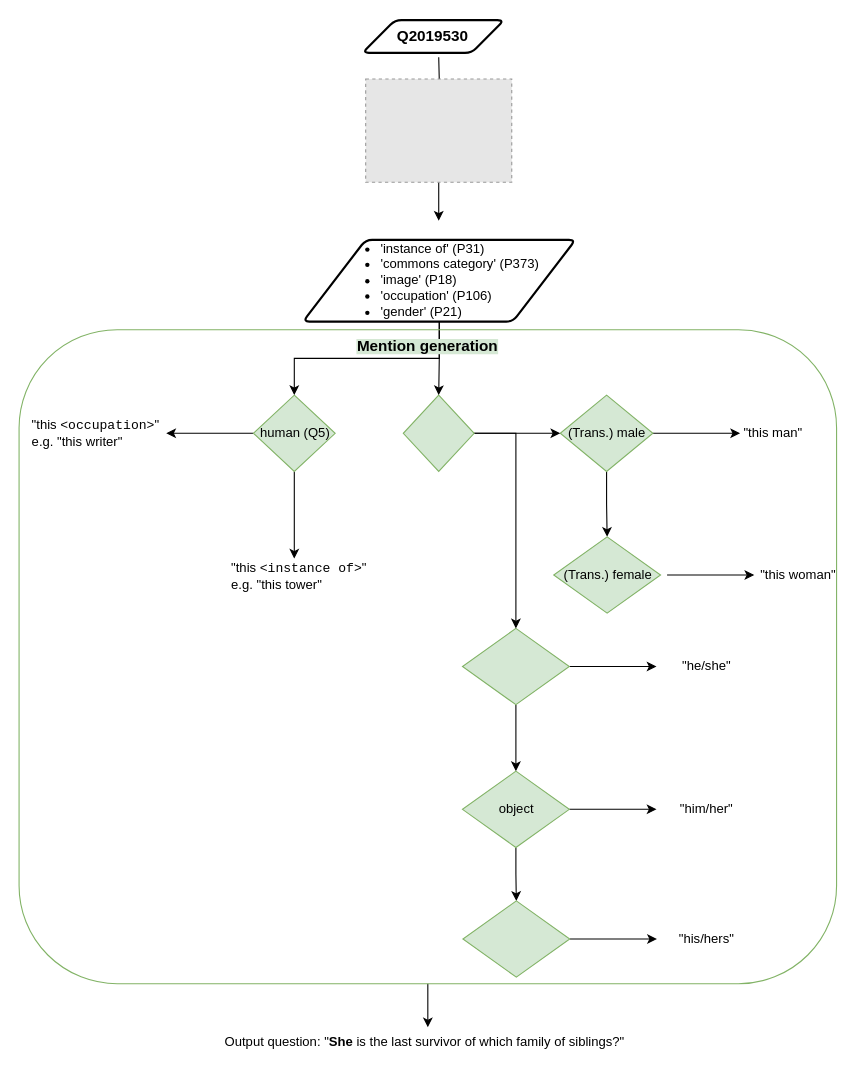
Some shapes in this 860 by 1078 pixel diagram are drawn without their labels. Grey dashed boxes stand in for pictures. The shapes that lost their labels are listed below. From the top down, each one's centre as x and y in pixels, then its label:
point 438,432: Gender available
point 515,666: nominal subject
point 516,938: possession modifier
